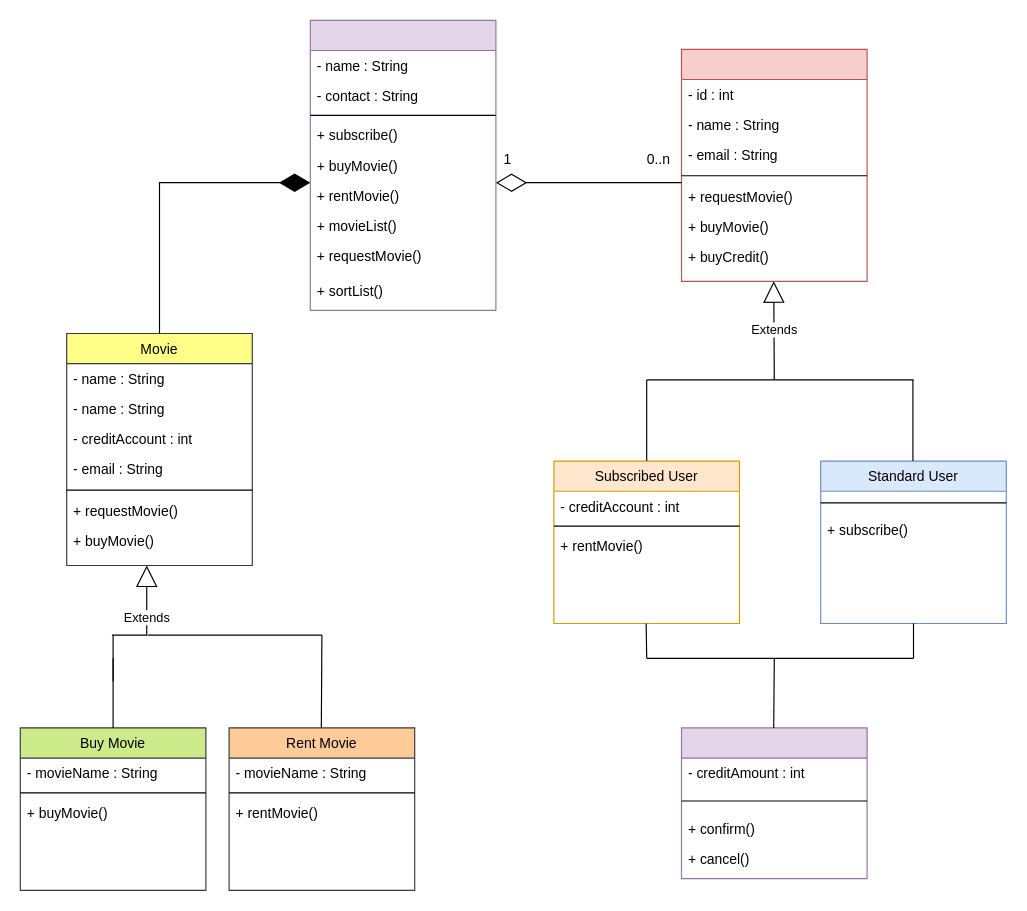
Some shapes in this 1027 by 911 pixel diagram are drawn without their labels. Here are the shapes that lost their labels. From the top down, the box of each, then its label:
(309, 19, 496, 310): Movie app
(680, 48, 867, 281): User
(680, 727, 867, 879): Buy Credit
